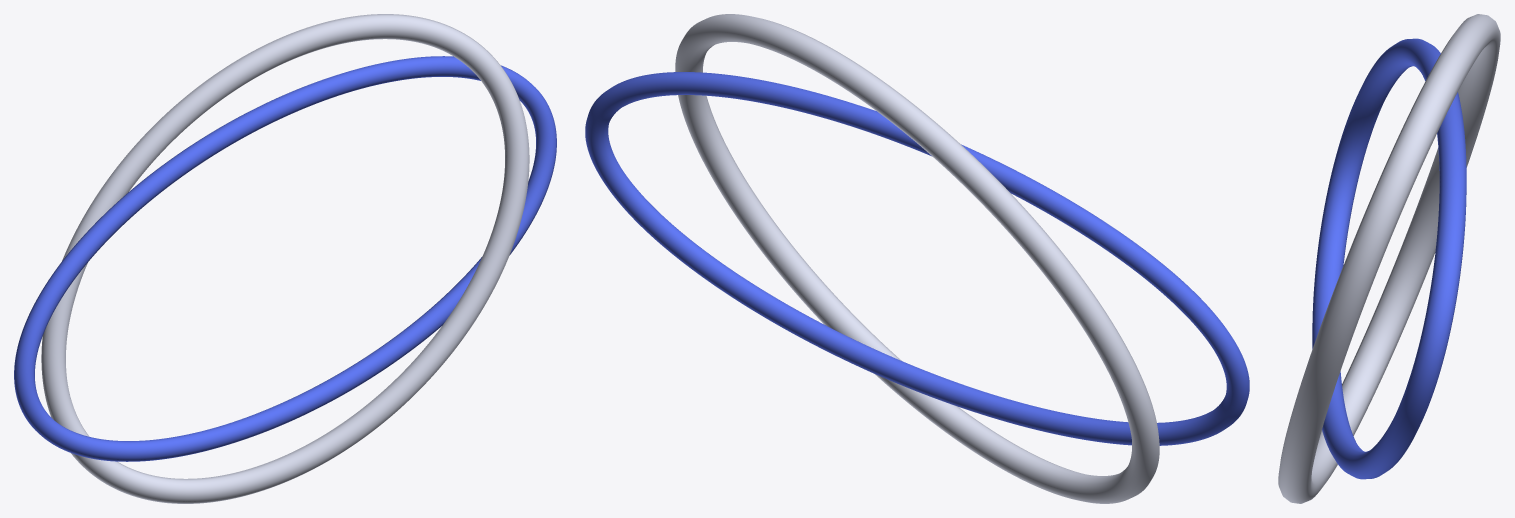
Rendered from digital-icon.glb.
The picture shows the model from 3 angles, left to right: view 1: azimuth 30°, elevation 25°; view 2: azimuth 150°, elevation 25°; view 3: azimuth 270°, elevation 25°; orthographic projection. The views are drawn at different scales.
Visible parts, largest first — view 1: Digital / polished world.001, Digital / blue orbital.001; view 2: Digital / polished world.001, Digital / blue orbital.001; view 3: Digital / polished world.001, Digital / blue orbital.001.
Part boxes in pixels (x1,y1,x2,y2): Digital / polished world.001: (41, 14, 529, 503); Digital / blue orbital.001: (14, 56, 556, 461); Digital / polished world.001: (675, 14, 1159, 503); Digital / blue orbital.001: (585, 72, 1249, 445); Digital / polished world.001: (1278, 14, 1500, 503); Digital / blue orbital.001: (1312, 38, 1466, 479).
Bounding box in the file's own units: 2.38 × 1.62 × 0.6063.
